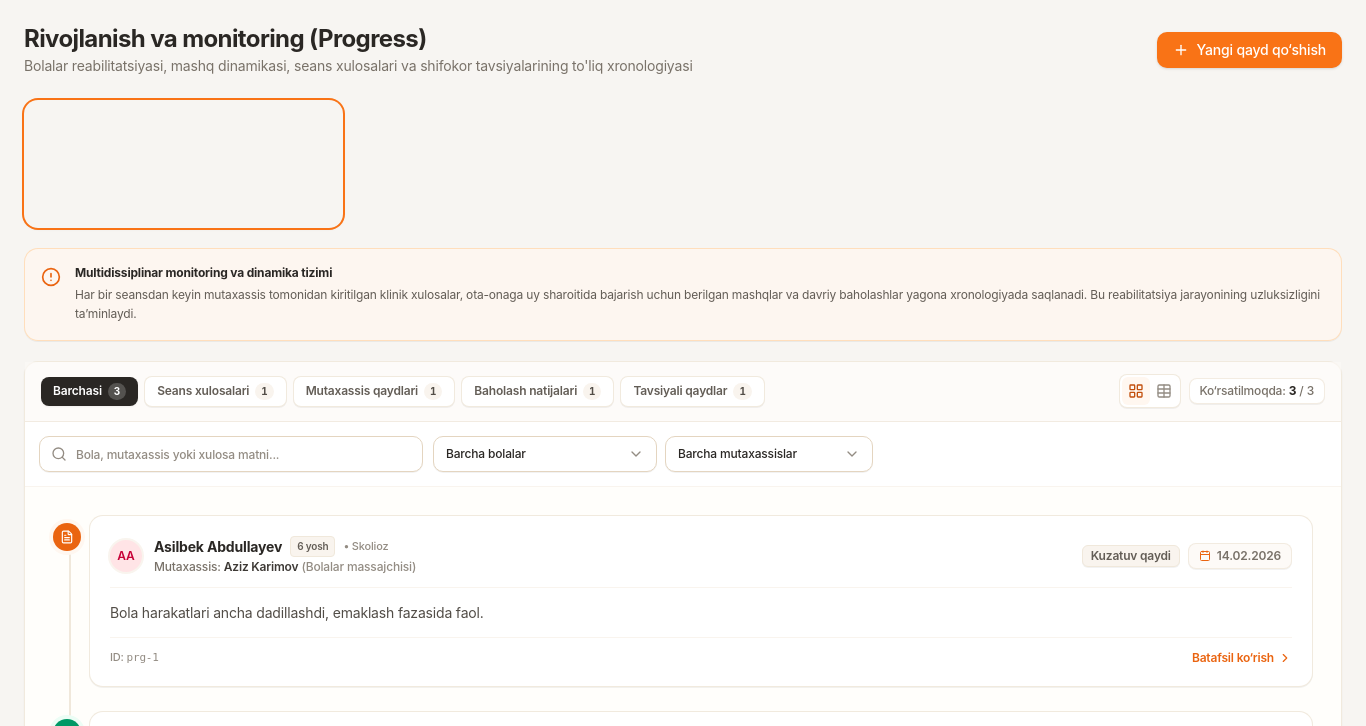
Test case: ProgressPage Component › switches between Timeline view and DataTable view
This screenshot has width=1366, height=726.
# Click table view
Click the button titled "Jadval ko'rinishi" at [1164, 391], box left=1150, top=377, right=1178, bottom=405
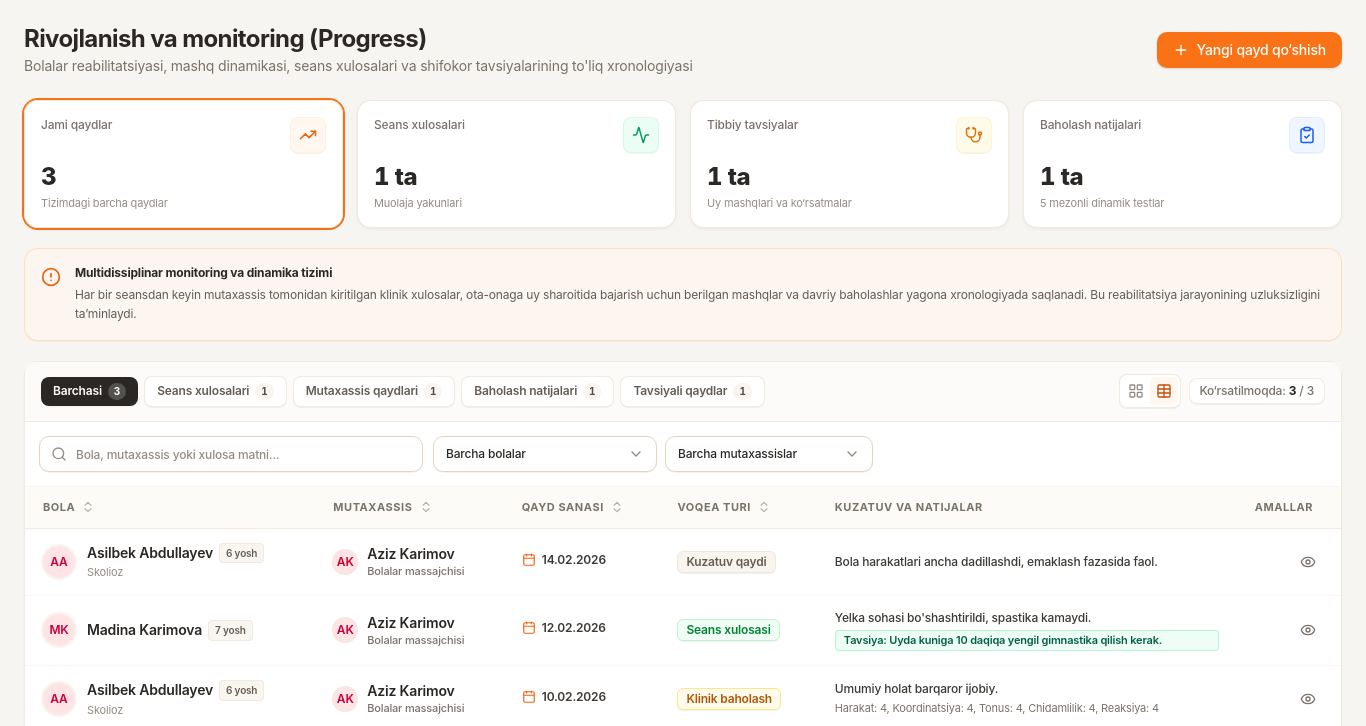
Result: the text "Voqea turi" is shown at left=678, top=499, right=751, bottom=516
Result: the text "Kuzatuv va natijalar" is shown at left=835, top=499, right=983, bottom=516
